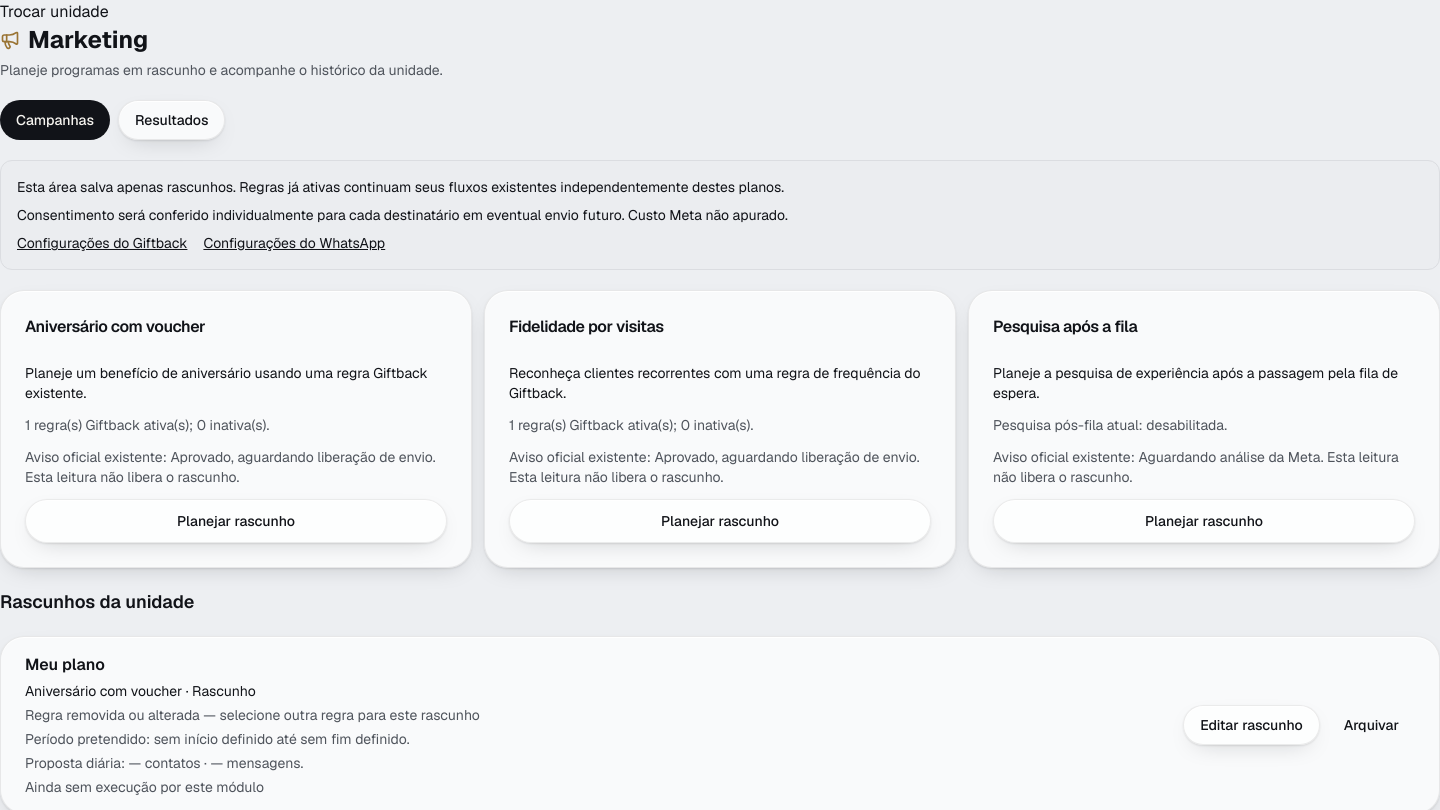
Marketing › sinaliza regra alterada e exige nova seleção ao editar
Expected: the text "Regra removida ou alterada — selecione outra regra para este rascunho" is shown, [25,705,480,725]
Click the button "Editar rascunho" at (1251, 725), box [1183,705,1320,745]
(page scrolled)
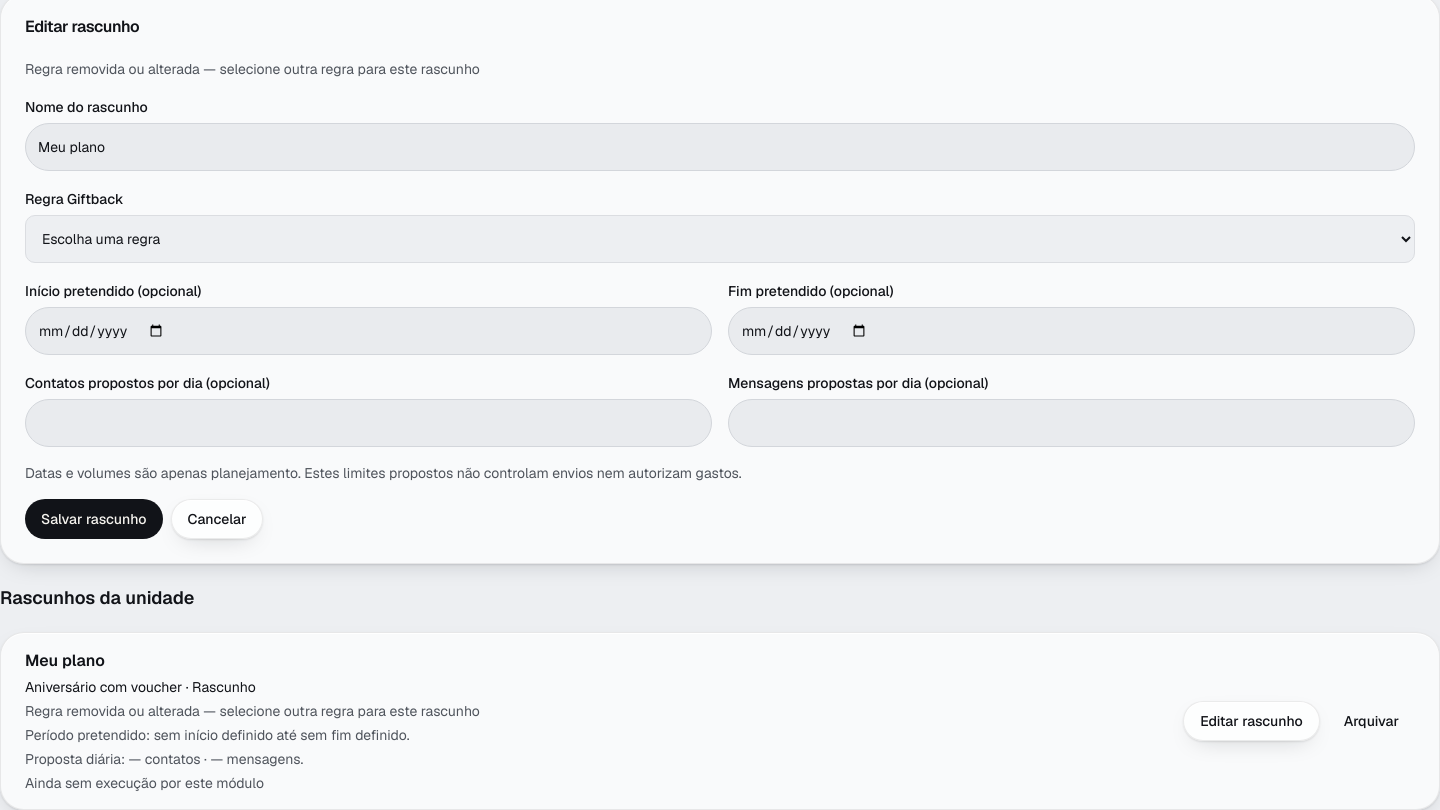
Expected: the dropdown labelled "Regra Giftback" shows "Escolha uma regra", [25,215,1415,263]
Click the button "Salvar rascunho" at (94, 519), box [25,499,162,539]
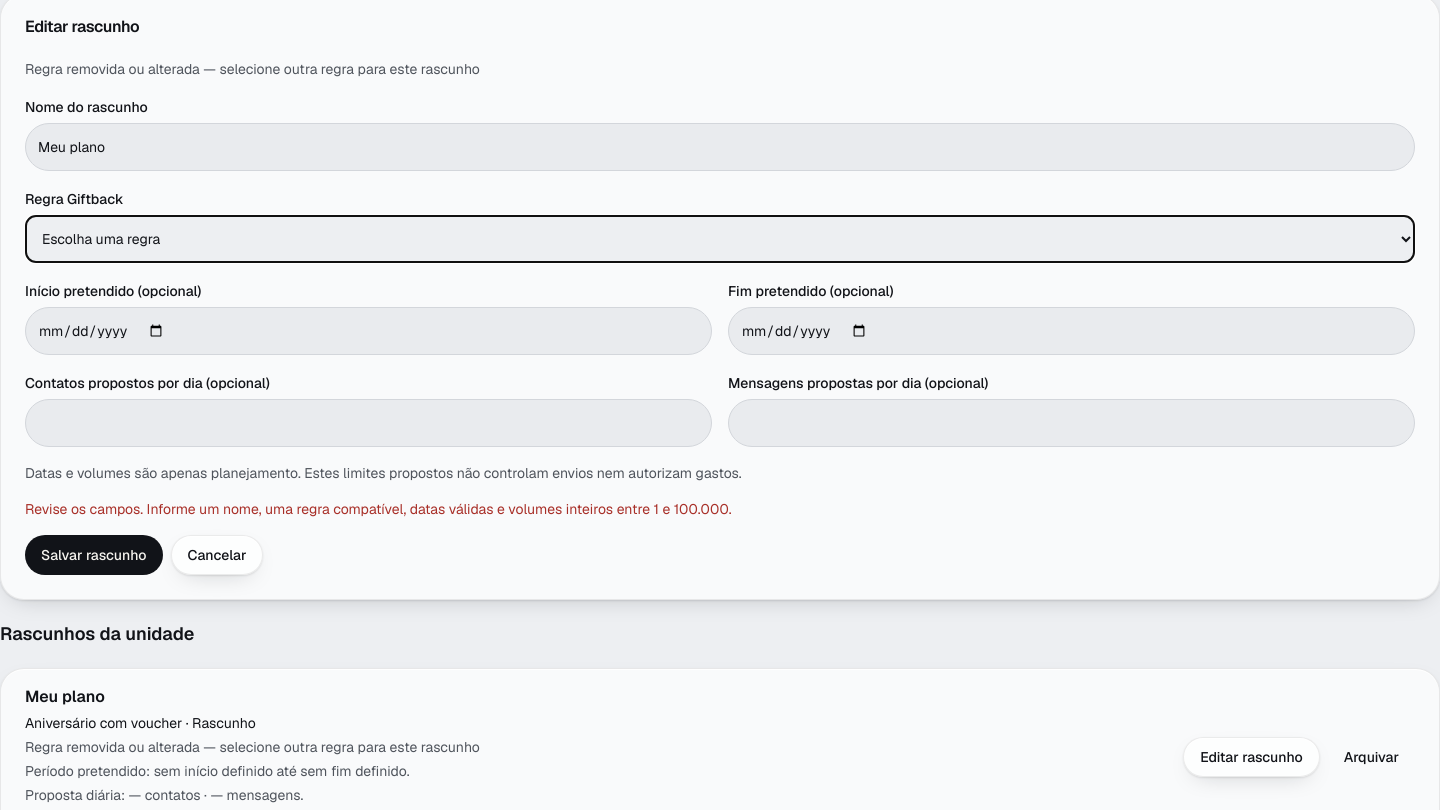
Expected: the 2nd message shows "Revise os campos", [25,500,732,518]
